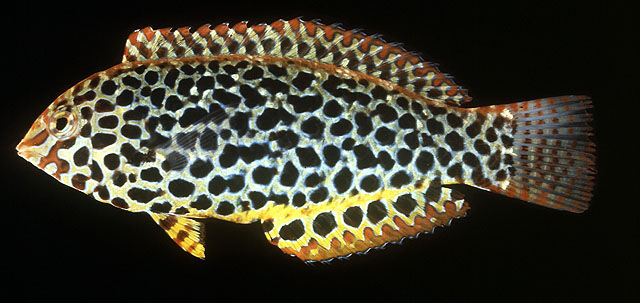fish: (15, 17, 597, 264)
